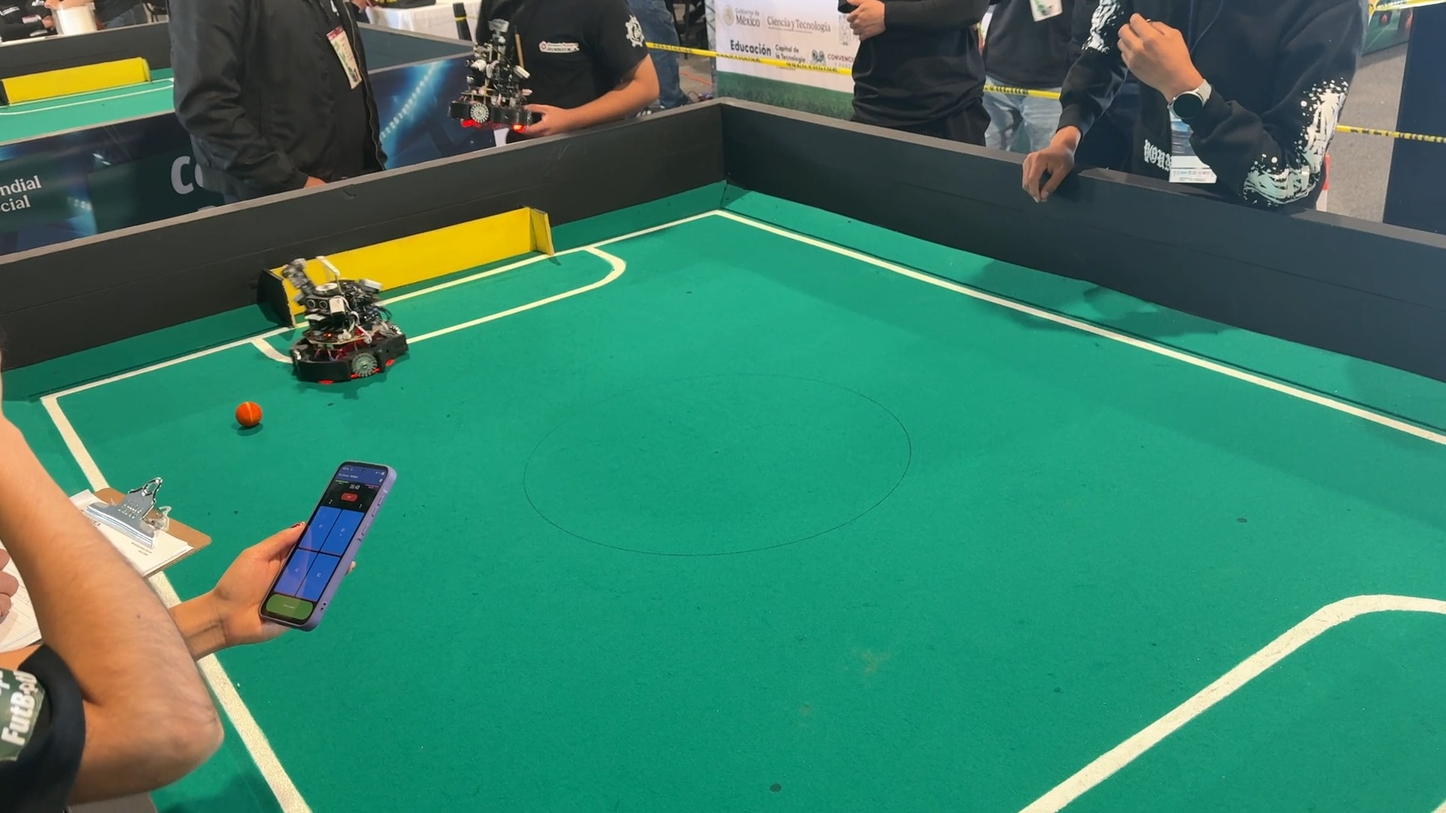Robot: (250, 253, 438, 404)
pelota: (220, 401, 267, 443)
